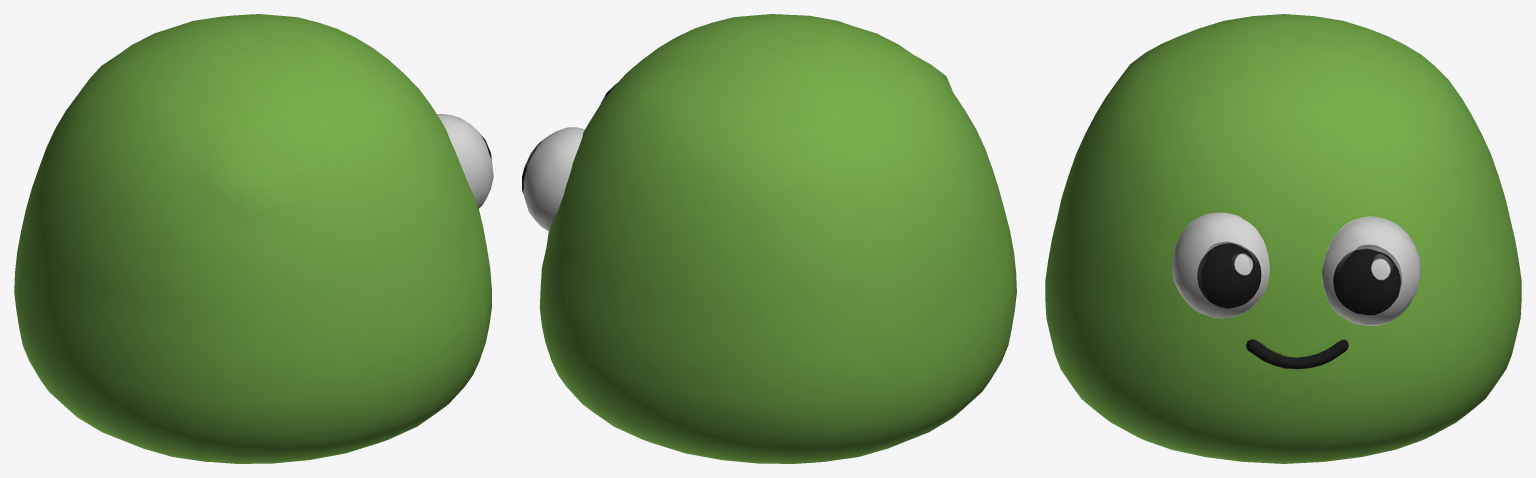
File: 史莱姆5.glb
The picture shows the model from 3 angles, left to right: view 1: azimuth 30°, elevation 25°; view 2: azimuth 150°, elevation 25°; view 3: azimuth 270°, elevation 25°; orthographic projection.
Parts seen in each view (by area): view 1: tripo_node_28ba4936-1b75-48cb-ba00-6de03f177a70; view 2: tripo_node_28ba4936-1b75-48cb-ba00-6de03f177a70; view 3: tripo_node_28ba4936-1b75-48cb-ba00-6de03f177a70.
Part boxes in pixels (x1,y1,x2,y2): tripo_node_28ba4936-1b75-48cb-ba00-6de03f177a70: (14,14,493,463); tripo_node_28ba4936-1b75-48cb-ba00-6de03f177a70: (522,14,1016,463); tripo_node_28ba4936-1b75-48cb-ba00-6de03f177a70: (1045,14,1521,463).
Size of the model in its own units: 0.9707 by 0.8379 by 0.9746.
1 material, 1 textured.
